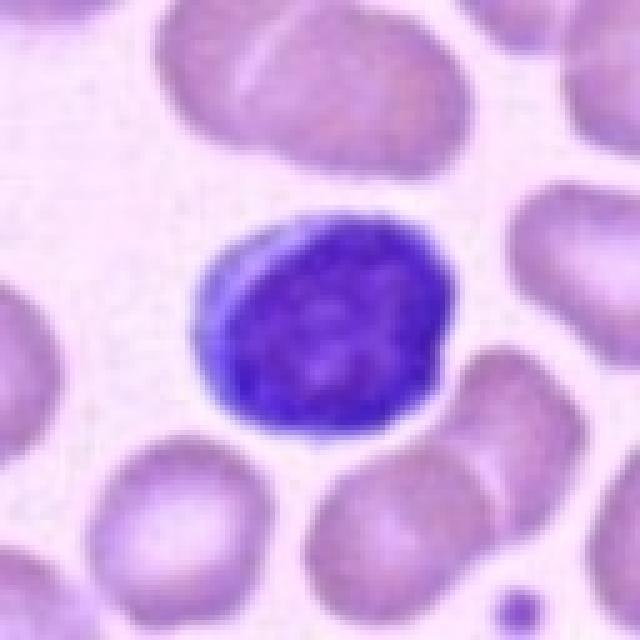lympho: (183, 204, 467, 442)
